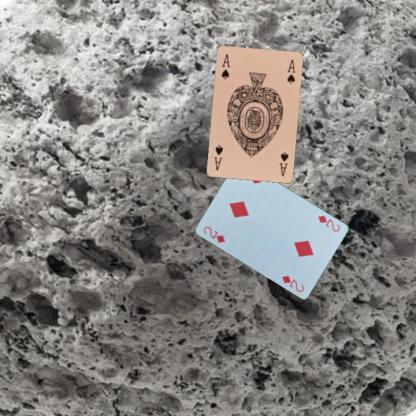2d: (200, 223, 226, 244), (315, 212, 341, 233)
As: (219, 51, 231, 80), (277, 149, 289, 177)
